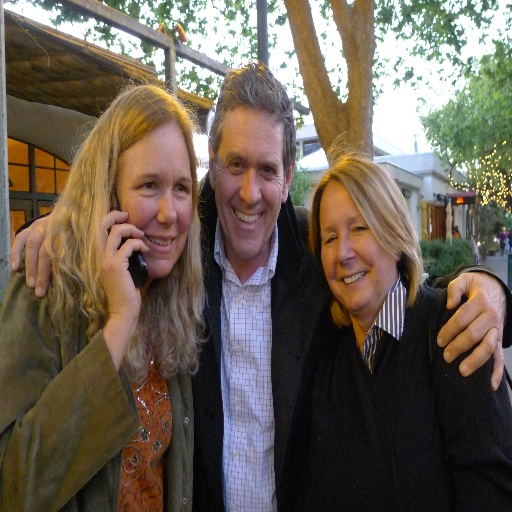hand: (444, 262, 510, 414), (92, 208, 150, 324), (8, 210, 65, 299)
